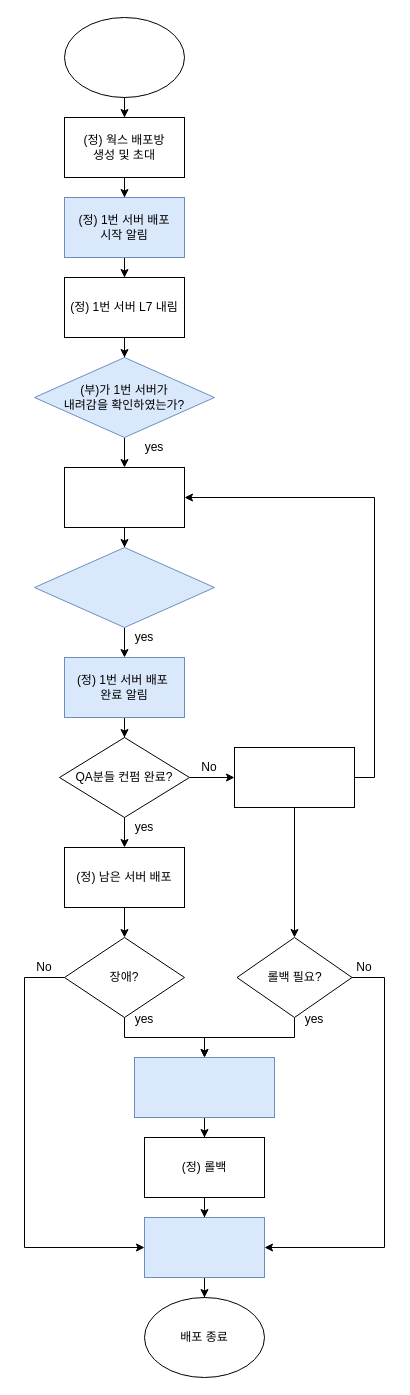
Some shapes in this 410 by 1395 pixel diagram are drawn without their labels. The shapes that lost their labels are listed below. From the top down, each one's centre as x and y in pixels, then its label:
At point (124, 57): "(정) 배포시작".
At point (124, 497): "(정) 1번 서버 배포".
At point (124, 587): "(부)가 1번 서버 배포 완료됨을 확인하였는가?".
At point (294, 777): "개발 담당자 코드 수정".
At point (204, 1087): "(부) 가 롤백 커뮤니케이션 담당".
At point (204, 1247): "(정) 배포 완료 알림".
